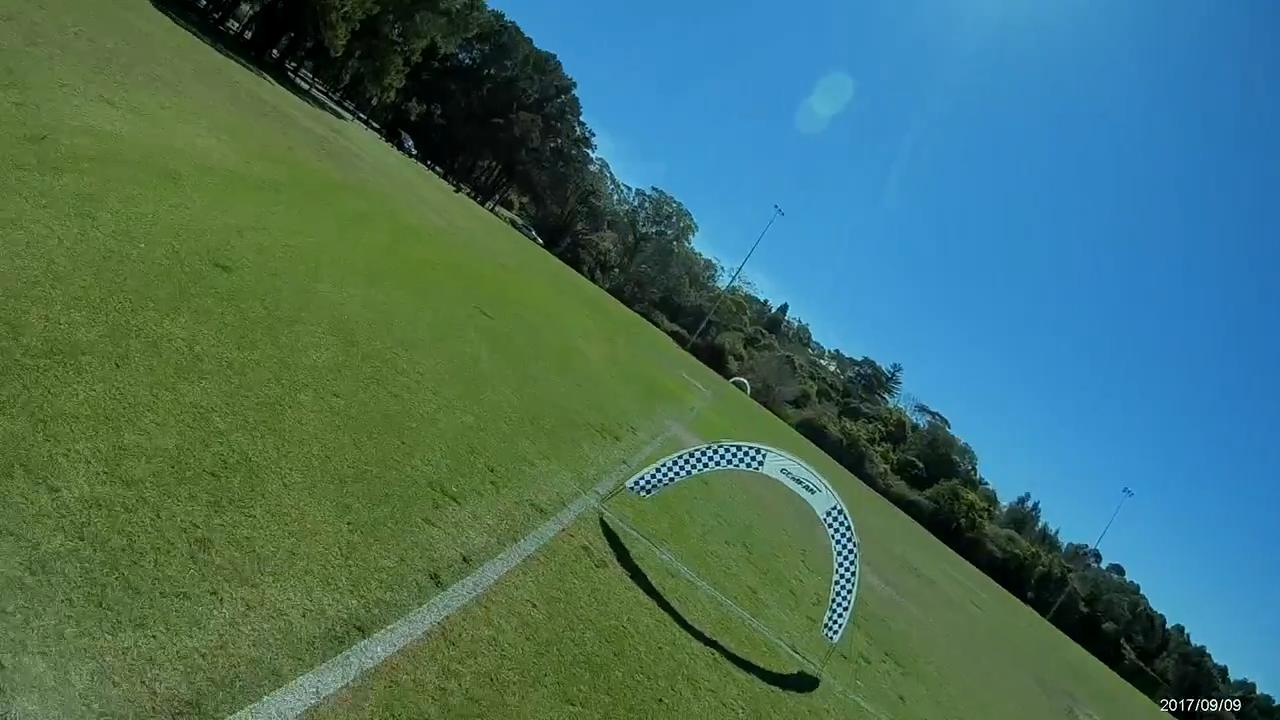gate: (623, 438, 860, 645)
